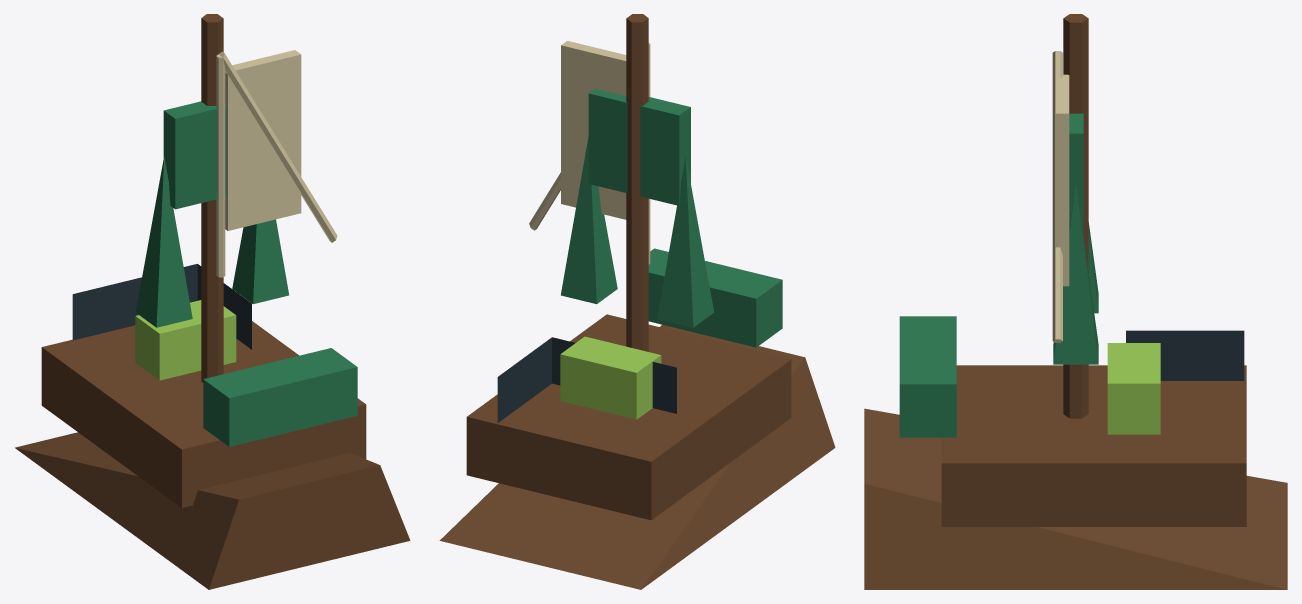
Rendered from ship.obj.
3 renders of one model, left to right at view 1: azimuth 30°, elevation 25°; view 2: azimuth 150°, elevation 25°; view 3: azimuth 270°, elevation 25°, orthographic. The views are drawn at different scales.
Parts seen in each view (by area): view 1: ship; view 2: ship; view 3: ship.
Part boxes in pixels (x1,y1,x2,y2): ship: [15, 14, 410, 589]; ship: [439, 14, 835, 589]; ship: [864, 14, 1287, 589].
Size of the model in its own units: 1.08 by 2.26 by 1.67.
